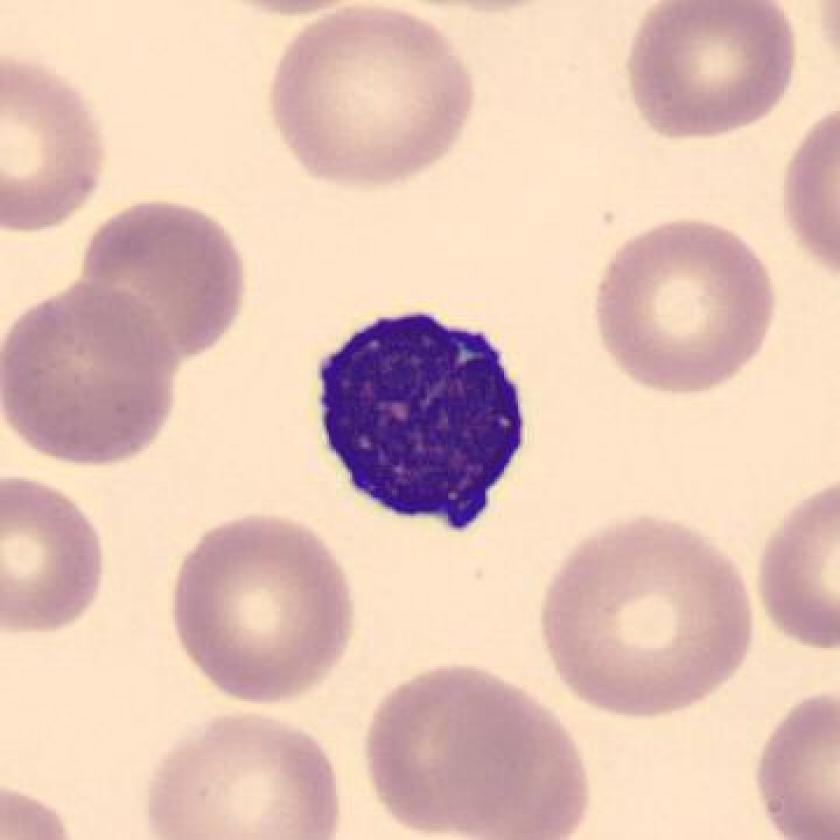lymphocyte: (298, 295, 543, 549)
